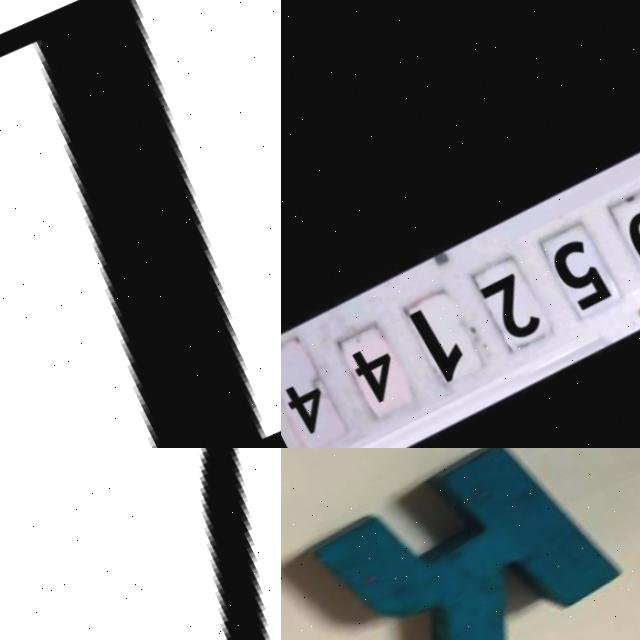0: (609, 175, 640, 286)
1: (0, 0, 281, 448), (402, 283, 489, 389)
2: (470, 246, 560, 356)
4: (338, 318, 420, 419), (281, 355, 348, 448)
5: (537, 213, 627, 319)
J: (27, 448, 281, 640)
K: (300, 448, 637, 640)
